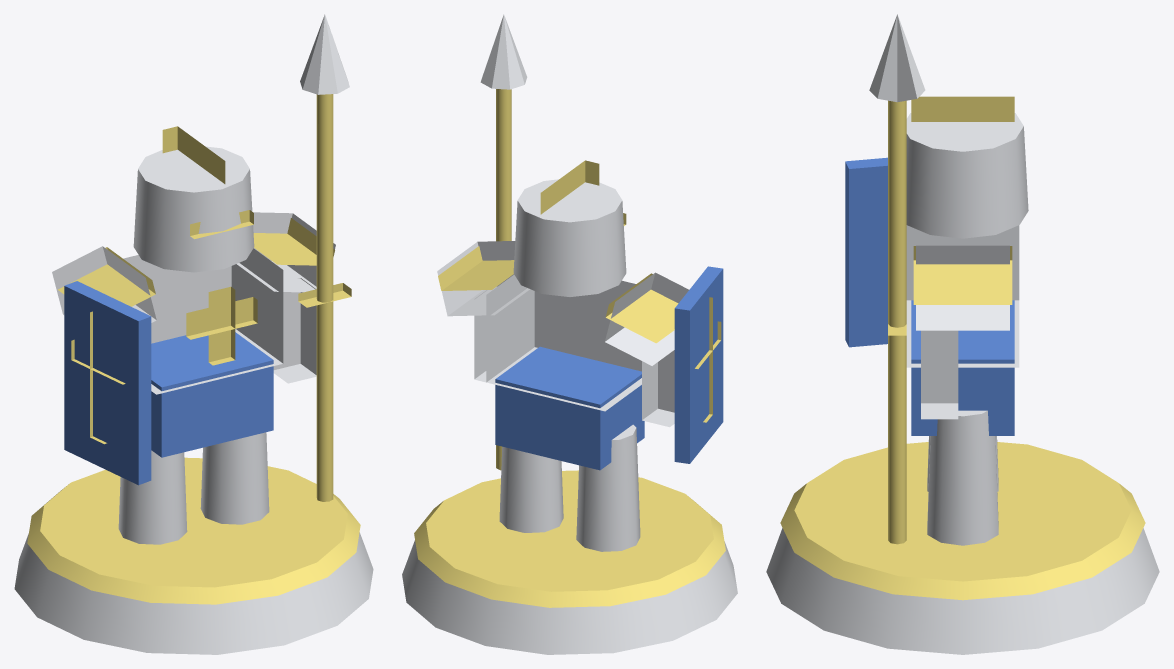
File: pawn.glb
The picture shows the model from 3 angles, left to right: view 1: azimuth 30°, elevation 25°; view 2: azimuth 150°, elevation 25°; view 3: azimuth 270°, elevation 25°; orthographic projection. The views are drawn at different scales.
Parts seen in each view (by area): view 1: pawn; view 2: pawn; view 3: pawn.
Boxes of the visible parts, x1,y1,x2,y2 form: pawn: (14,14,373,654); pawn: (402,14,737,654); pawn: (766,14,1159,654).
Size of the model in its own units: 0.84 by 1.44 by 0.84.
